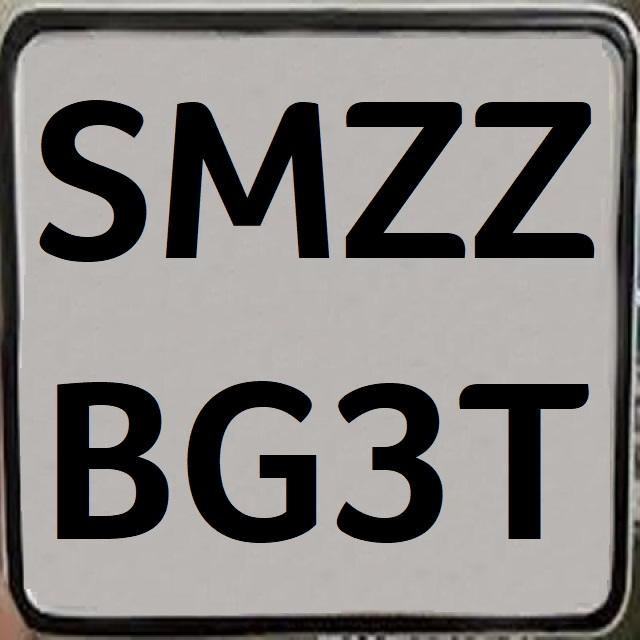3: (333, 376, 456, 544)
B: (49, 371, 174, 547)
C: (186, 377, 327, 547)
M: (167, 95, 334, 262)
S: (34, 92, 149, 264)
T: (456, 375, 595, 544)
Z: (469, 91, 603, 263), (336, 93, 471, 263)
